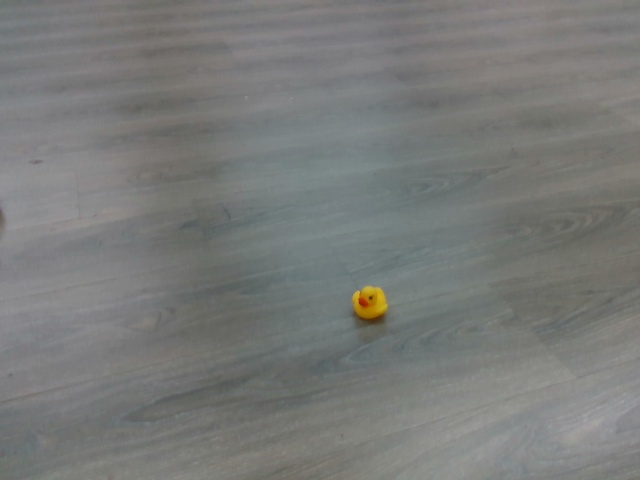duck: (342, 275, 392, 329)
